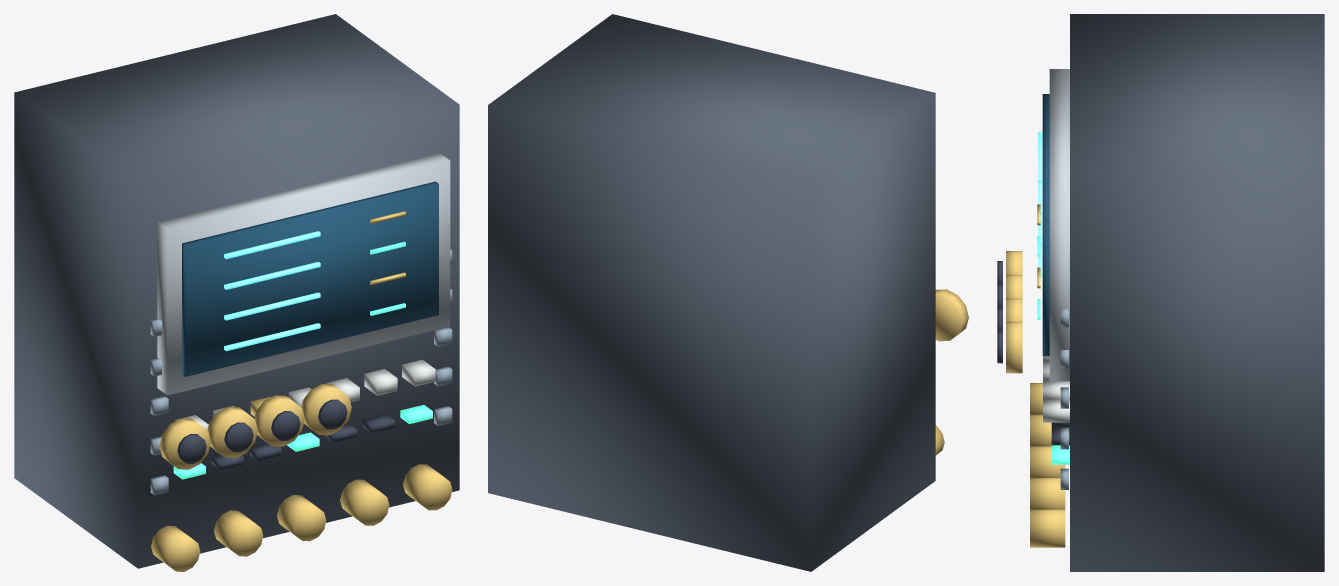
Rendered from 62_L86_RadiatorThermalPerformanceAnalyzer.glb.
3 views of the same model, side by side, from view 1: azimuth 30°, elevation 25°; view 2: azimuth 150°, elevation 25°; view 3: azimuth 270°, elevation 25° (orthographic). The views are drawn at different scales.
Visible parts, largest first — view 1: L86_RadiatorThermalPerformanc_Part_0000, L86_RadiatorThermalPerformanc_Part_0002, L86_RadiatorThermalPerformanc_Part_0001, L86_RadiatorThermalPerformanc_Part_0004, L86_RadiatorThermalPerformanc_Part_0003, L86_RadiatorThermalPerformanc_Part_0008, L86_RadiatorThermalPerformanc_Part_0006, L86_RadiatorThermalPerformanc_Part_0007, L86_RadiatorThermalPerformanc_Part_0005, L86_RadiatorThermalPerformanc_Part_0009, L86_RadiatorThermalPerformanc_Part_0013, L86_RadiatorThermalPerformanc_Part_0015 (+5 smaller); view 2: L86_RadiatorThermalPerformanc_Part_0000, L86_RadiatorThermalPerformanc_Part_0009; view 3: L86_RadiatorThermalPerformanc_Part_0000, L86_RadiatorThermalPerformanc_Part_0001, L86_RadiatorThermalPerformanc_Part_0004, L86_RadiatorThermalPerformanc_Part_0002, L86_RadiatorThermalPerformanc_Part_0006, L86_RadiatorThermalPerformanc_Part_0008, L86_RadiatorThermalPerformanc_Part_0015, L86_RadiatorThermalPerformanc_Part_0003, L86_RadiatorThermalPerformanc_Part_0005, L86_RadiatorThermalPerformanc_Part_0011.
Part boxes in pixels (x1,y1,x2,y2): L86_RadiatorThermalPerformanc_Part_0000: (14,14,459,568); L86_RadiatorThermalPerformanc_Part_0002: (182,181,438,376); L86_RadiatorThermalPerformanc_Part_0001: (157,153,450,395); L86_RadiatorThermalPerformanc_Part_0004: (151,211,452,571); L86_RadiatorThermalPerformanc_Part_0003: (224,231,320,351); L86_RadiatorThermalPerformanc_Part_0008: (150,249,452,495); L86_RadiatorThermalPerformanc_Part_0006: (175,359,435,429); L86_RadiatorThermalPerformanc_Part_0007: (211,414,395,470); L86_RadiatorThermalPerformanc_Part_0005: (173,241,432,479); L86_RadiatorThermalPerformanc_Part_0009: (159,418,210,469); L86_RadiatorThermalPerformanc_Part_0013: (254,395,304,446); L86_RadiatorThermalPerformanc_Part_0015: (301,384,351,435); L86_RadiatorThermalPerformanc_Part_0000: (488,14,935,571); L86_RadiatorThermalPerformanc_Part_0009: (935,289,968,341); L86_RadiatorThermalPerformanc_Part_0000: (1070,14,1324,571); L86_RadiatorThermalPerformanc_Part_0001: (1049,69,1069,381); L86_RadiatorThermalPerformanc_Part_0004: (1030,204,1065,547); L86_RadiatorThermalPerformanc_Part_0002: (1042,94,1049,356); L86_RadiatorThermalPerformanc_Part_0006: (1043,356,1069,422); L86_RadiatorThermalPerformanc_Part_0008: (1060,309,1068,489); L86_RadiatorThermalPerformanc_Part_0015: (1006,321,1022,373); L86_RadiatorThermalPerformanc_Part_0003: (1038,131,1042,277); L86_RadiatorThermalPerformanc_Part_0005: (1037,236,1069,464); L86_RadiatorThermalPerformanc_Part_0011: (1006,274,1022,298).
Bounding box in the file's own units: 0.9644 × 1.1 × 0.8216.
